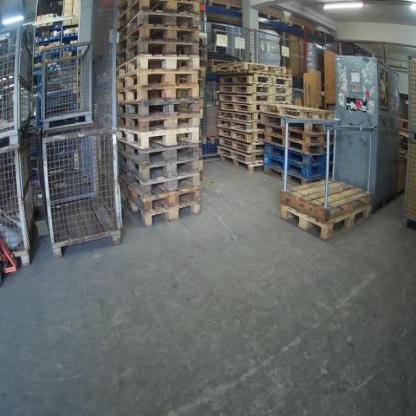pallet: (280, 202, 373, 242), (280, 178, 373, 218), (117, 54, 198, 89), (119, 113, 199, 144), (121, 41, 199, 65), (124, 175, 203, 198), (117, 29, 199, 51), (120, 1, 201, 23), (123, 14, 200, 36), (125, 205, 200, 227), (118, 144, 201, 162), (119, 84, 198, 101), (266, 142, 329, 162), (266, 155, 332, 174), (124, 188, 202, 204), (260, 103, 331, 118), (119, 101, 198, 114), (123, 162, 200, 175), (261, 137, 330, 151), (218, 92, 290, 104), (215, 64, 289, 75), (218, 118, 261, 135), (218, 82, 290, 92), (218, 135, 262, 149), (259, 126, 327, 135), (259, 118, 331, 126), (218, 149, 263, 161), (213, 161, 262, 172), (218, 75, 289, 82), (263, 174, 332, 181), (259, 135, 327, 141), (219, 110, 259, 118), (218, 104, 259, 110)
pallet_truck: (1, 226, 21, 294)
stillage: (39, 124, 123, 259), (40, 39, 92, 123), (2, 131, 33, 267), (2, 22, 31, 128), (399, 135, 415, 231), (401, 47, 415, 135)
